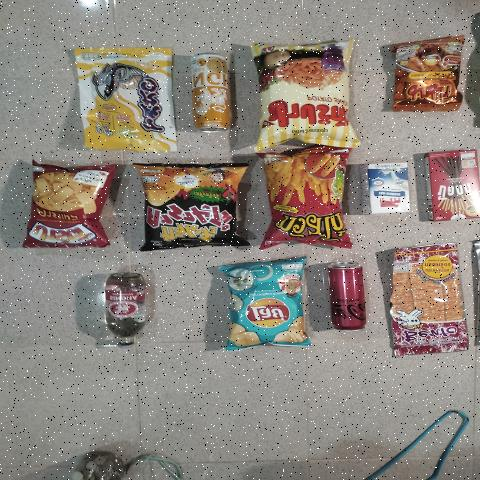bento_red: (380, 247, 466, 357)
coke_red: (329, 262, 363, 332)
karamujo: (140, 163, 242, 250)
lay_blue: (226, 267, 300, 341)
mama: (384, 29, 468, 116)
paprika: (260, 44, 353, 139)
party_red: (28, 167, 112, 248)
pokki: (429, 146, 480, 220)
singha_soda: (98, 267, 152, 355)
singha_yellow: (190, 47, 232, 137)
taro_yellow: (82, 51, 172, 147)
thai_denmark: (370, 160, 408, 213)
twisco: (260, 156, 345, 252)
